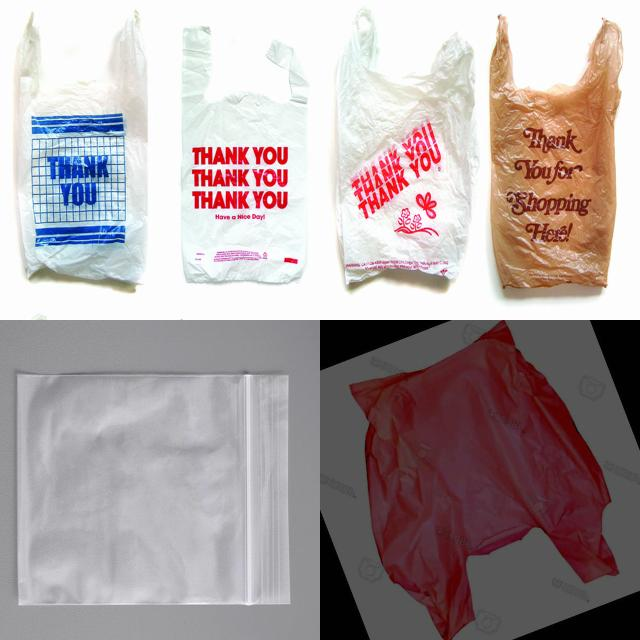Single-layer Plastic: (350, 321, 618, 640), (18, 374, 290, 605), (338, 9, 479, 284), (15, 12, 148, 282), (490, 16, 622, 288), (181, 26, 309, 282)
